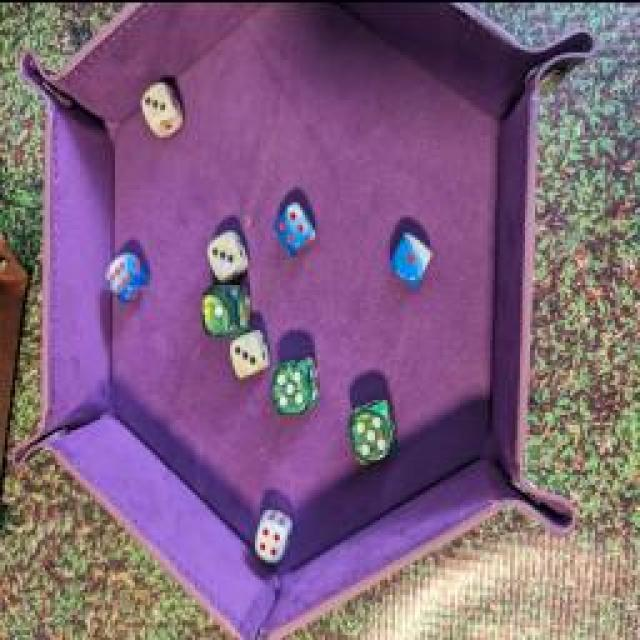dice_1: (197, 279, 255, 341), (385, 228, 435, 292)
dice_3: (135, 76, 180, 139), (226, 324, 272, 384), (204, 228, 254, 282)
dice_4: (272, 196, 316, 256), (252, 502, 292, 558)
dice_5: (349, 396, 401, 466), (271, 351, 321, 421)
dice_6: (105, 246, 147, 306)
